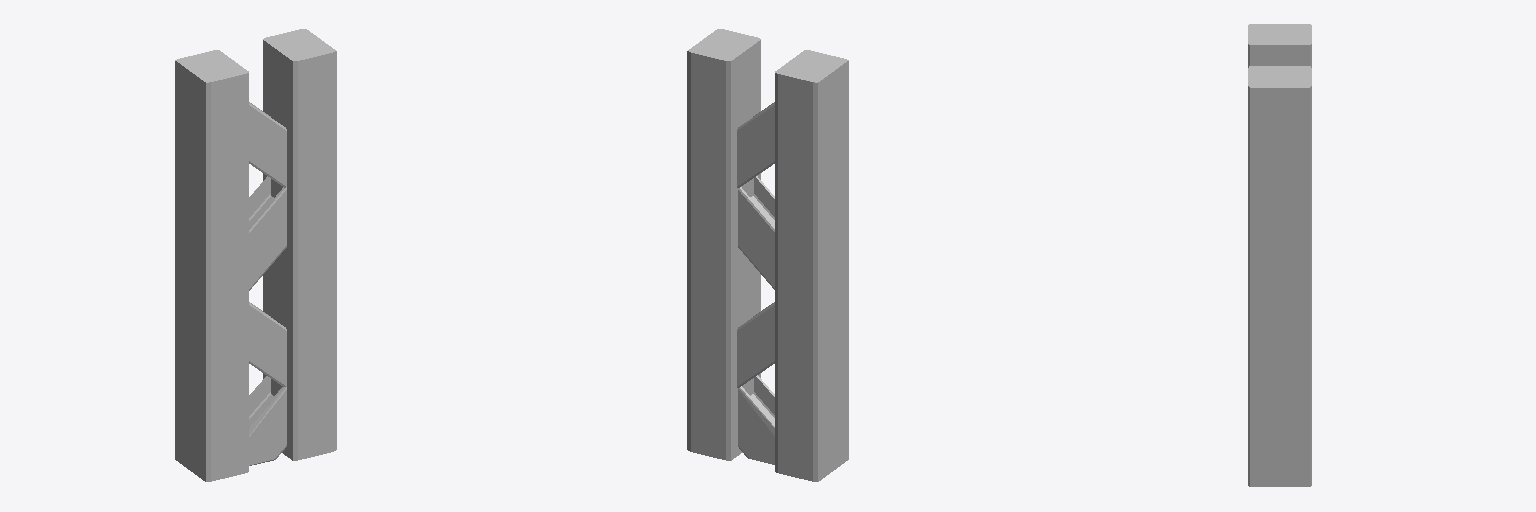
The model's file is Crossbeam.obj.
3 renders of one model, left to right at view 1: azimuth 30°, elevation 25°; view 2: azimuth 150°, elevation 25°; view 3: azimuth 270°, elevation 25°, orthographic.
Visible parts, largest first — view 1: CrossBeam_Cube.065; view 2: CrossBeam_Cube.065; view 3: CrossBeam_Cube.065.
Boxes of the visible parts, box(x1,y1,x2,y2) form: CrossBeam_Cube.065: box(175, 29, 336, 481); CrossBeam_Cube.065: box(687, 29, 848, 481); CrossBeam_Cube.065: box(1248, 24, 1311, 486).
Bounding box in the file's own units: 1.5 × 4.39 × 0.6376.